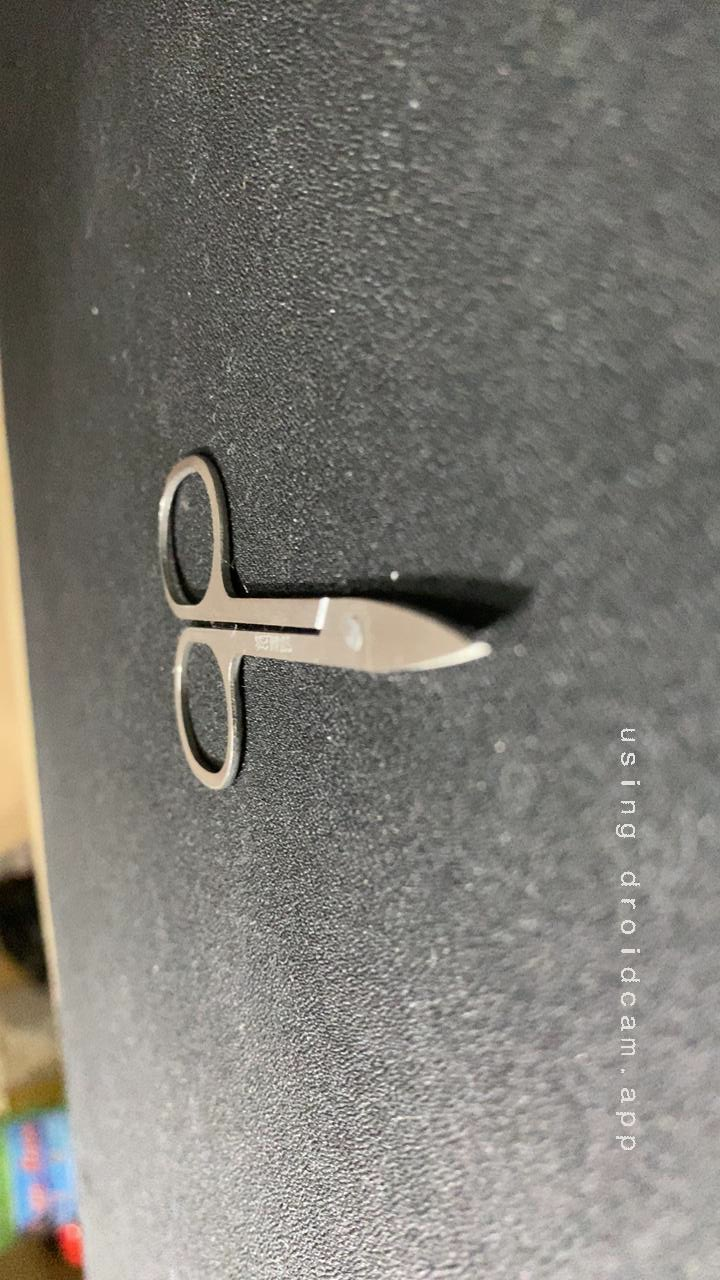scissor: (29, 421, 346, 790)
